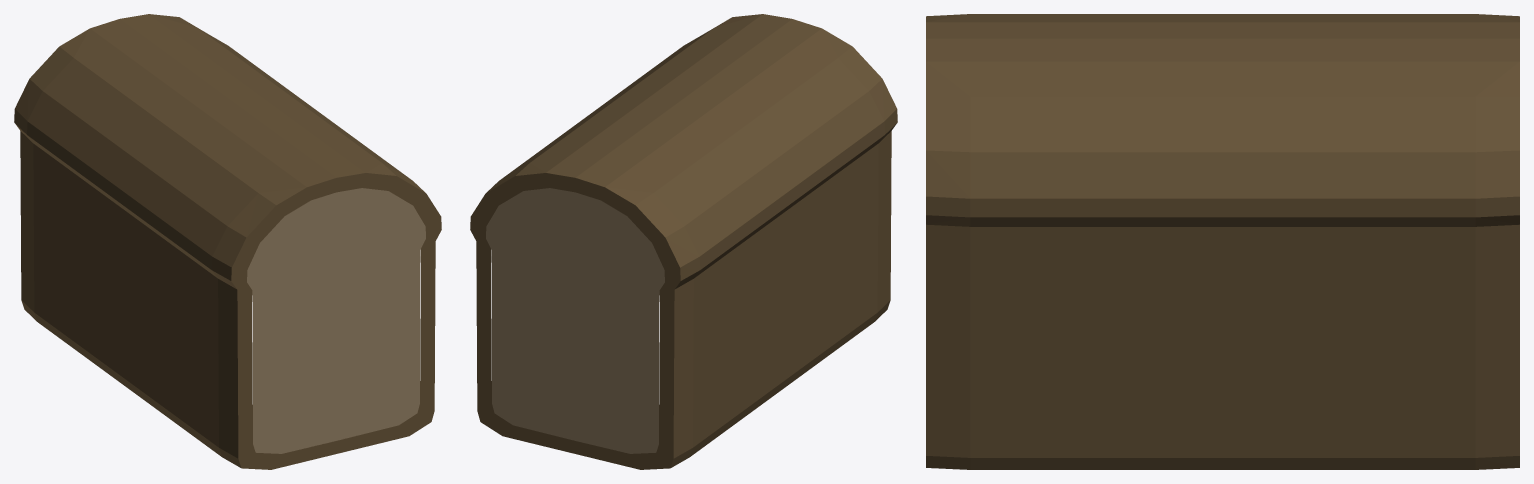
The model's file is bread.glb.
3 renders of one model, left to right at view 1: azimuth 30°, elevation 25°; view 2: azimuth 150°, elevation 25°; view 3: azimuth 270°, elevation 25°, orthographic. The views are drawn at different scales.
Parts seen in each view (by area): view 1: Bread; view 2: Bread; view 3: Bread.
Boxes of the visible parts, box(x1,y1,x2,y2) form: Bread: box(14, 14, 441, 469); Bread: box(470, 14, 897, 469); Bread: box(926, 14, 1519, 469).
Size of the model in its own units: 0.6933 by 0.8423 by 1.2.
